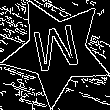M_S: (29, 22, 85, 81)
